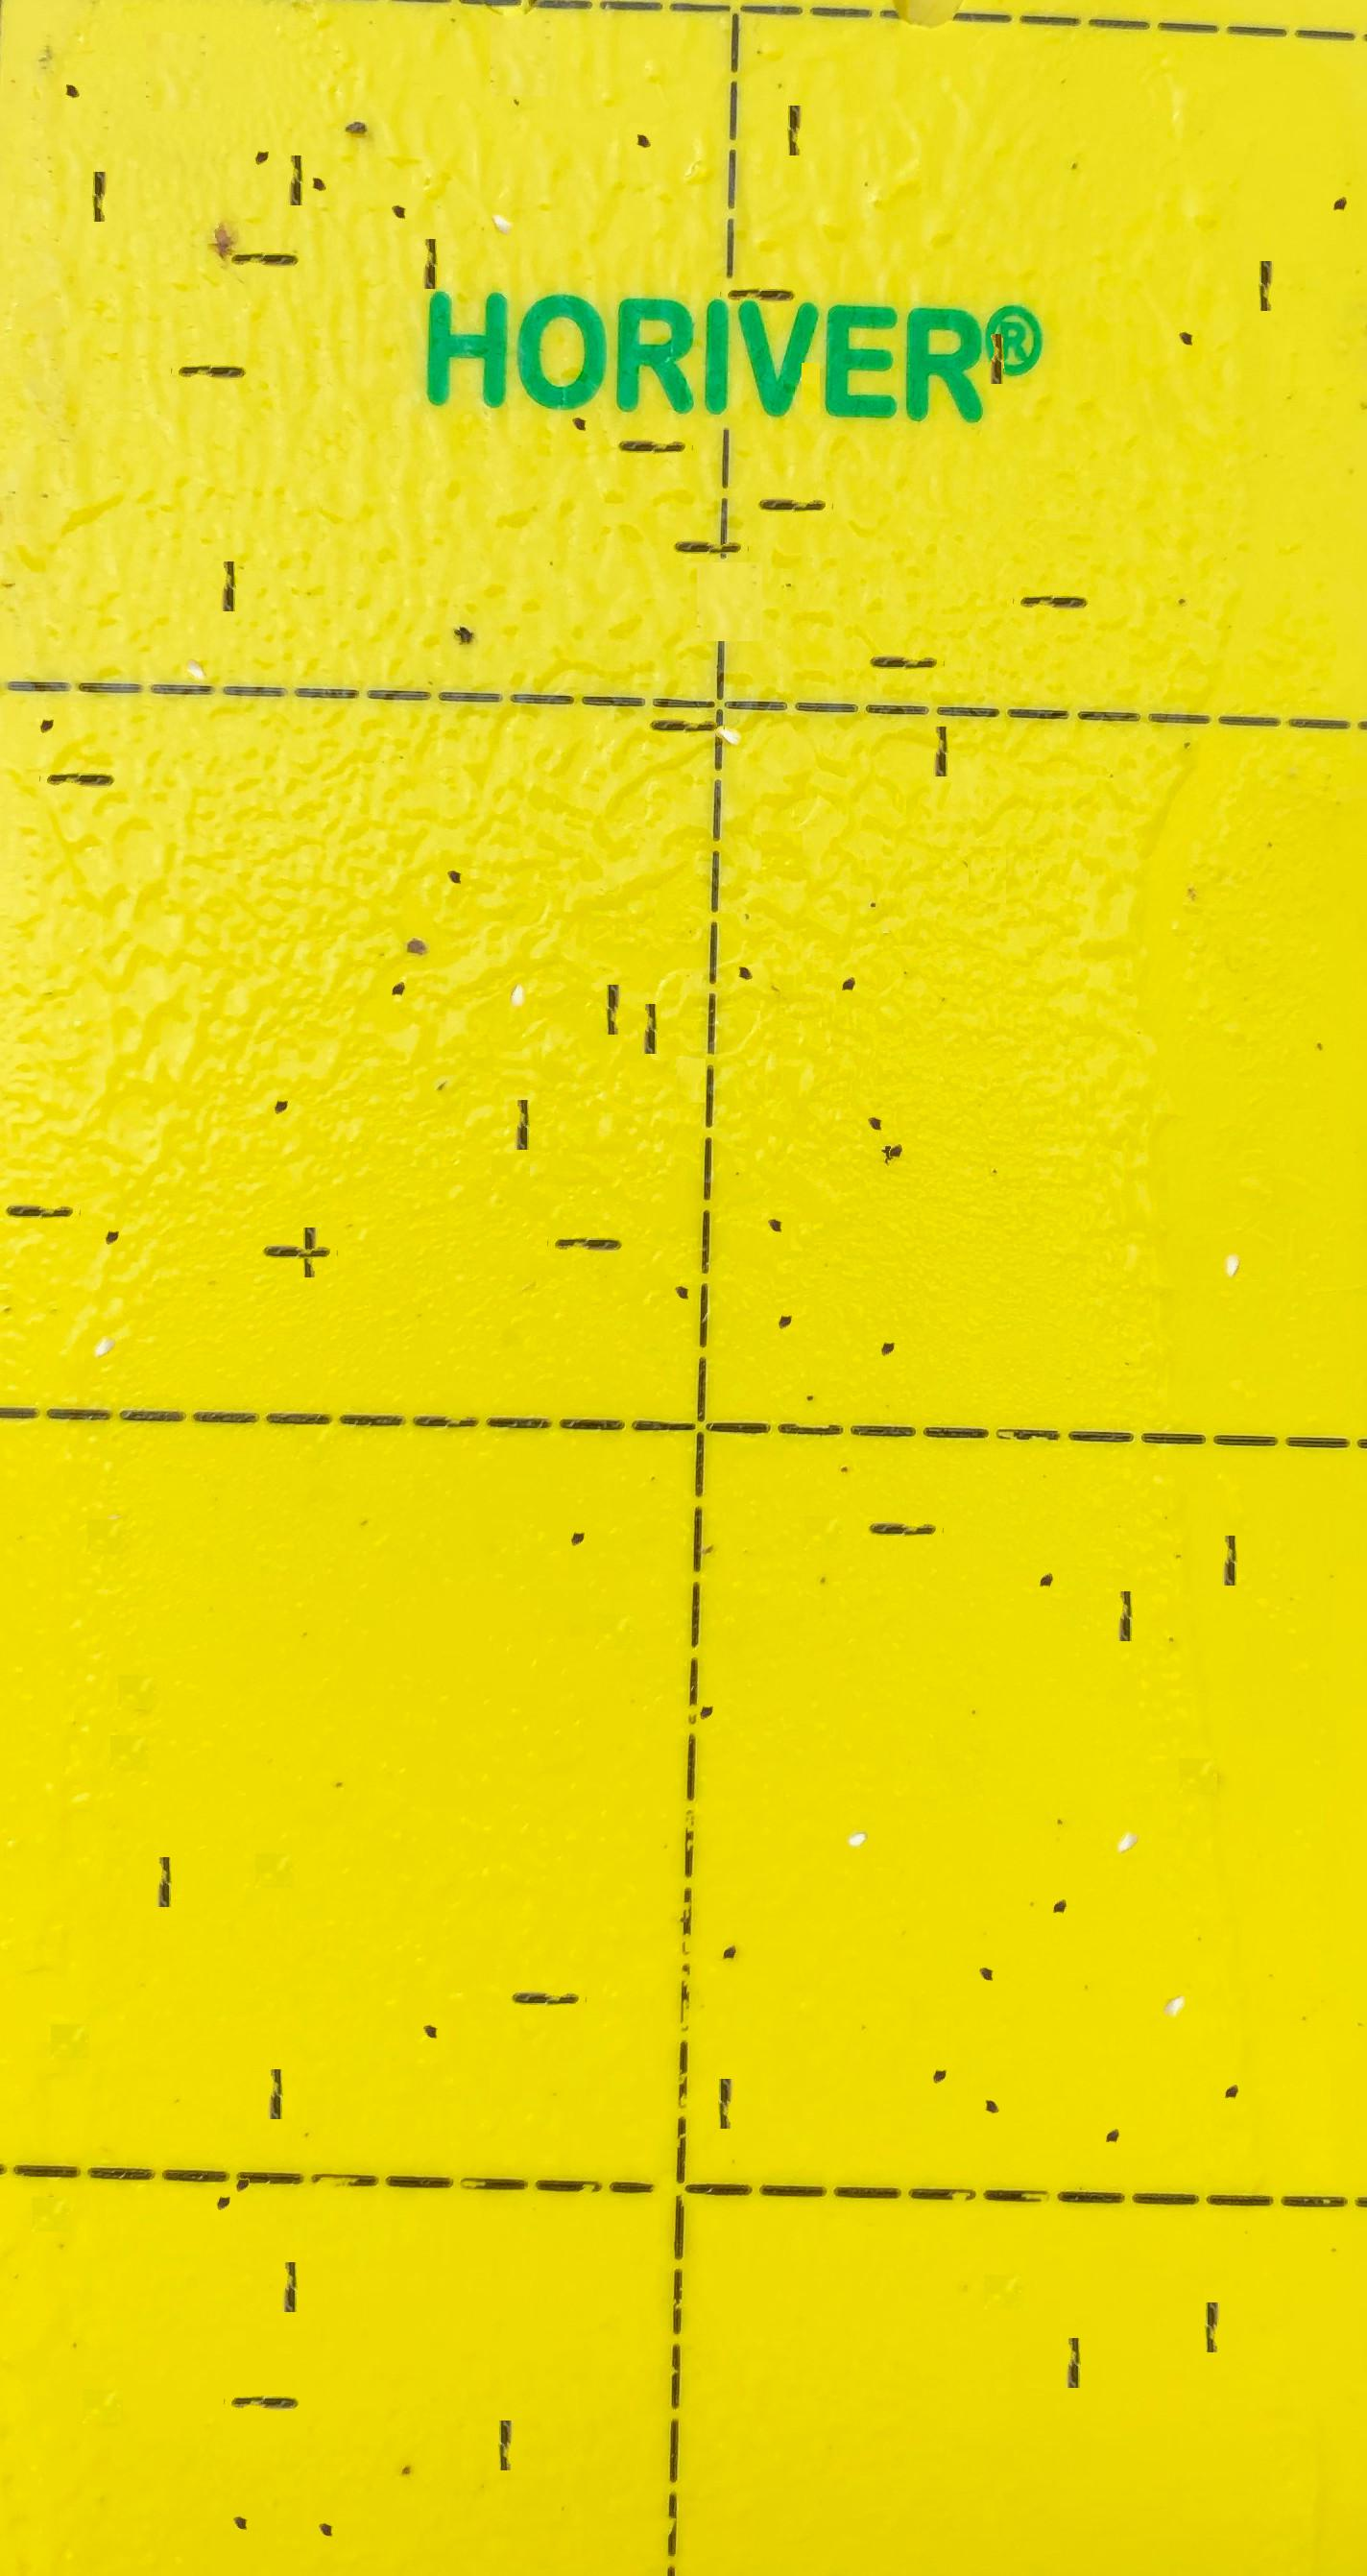white_fly: (835, 1767, 878, 1814), (711, 668, 753, 712), (1152, 1942, 1195, 1987), (174, 605, 216, 647), (1106, 1777, 1149, 1820), (84, 1281, 126, 1324), (482, 160, 525, 203), (496, 940, 537, 978), (1214, 1208, 1255, 1245)
